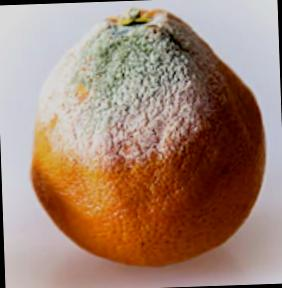Orange Rotten: (17, 1, 274, 281)
